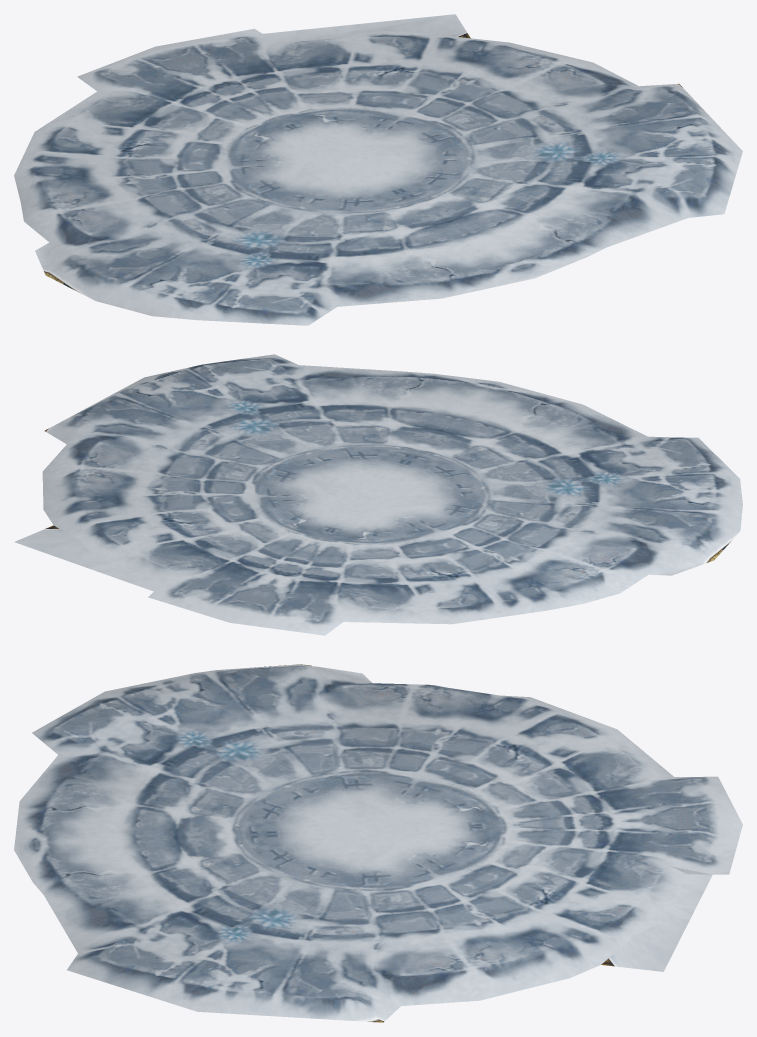
File: 5014_Item_fangzi_04.FBX
The picture shows the model from 3 angles, top to bottom: view 1: azimuth 30°, elevation 25°; view 2: azimuth 150°, elevation 25°; view 3: azimuth 270°, elevation 25°; orthographic projection. The views are drawn at different scales.
Visible parts, largest first — view 1: 5014_Item_fangzi_04; view 2: 5014_Item_fangzi_04; view 3: 5014_Item_fangzi_04.
Part boxes in pixels (box(x1,y1,x2,y2)): 5014_Item_fangzi_04: box(14, 14, 742, 325); 5014_Item_fangzi_04: box(14, 354, 742, 635); 5014_Item_fangzi_04: box(14, 664, 742, 1022).
Size of the model in its own units: 1244 by 19.4 by 1067.
